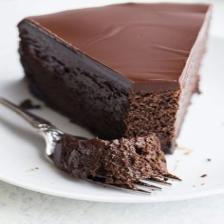brown: (26, 3, 209, 82)
